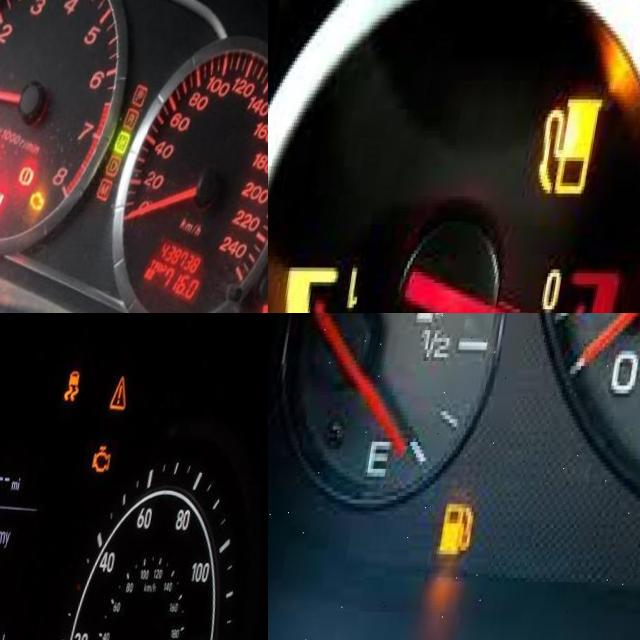Seat Belt: (0, 148, 6, 168)
